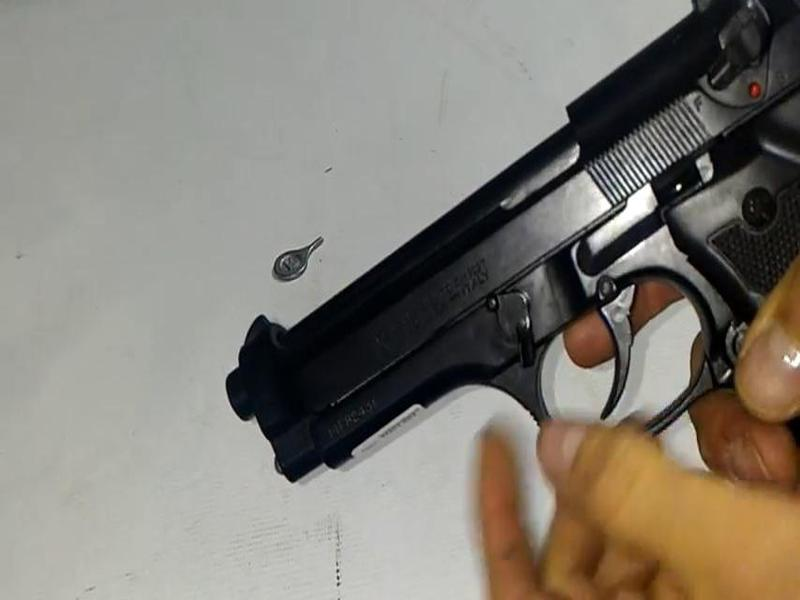Pistola: (237, 1, 798, 510)
